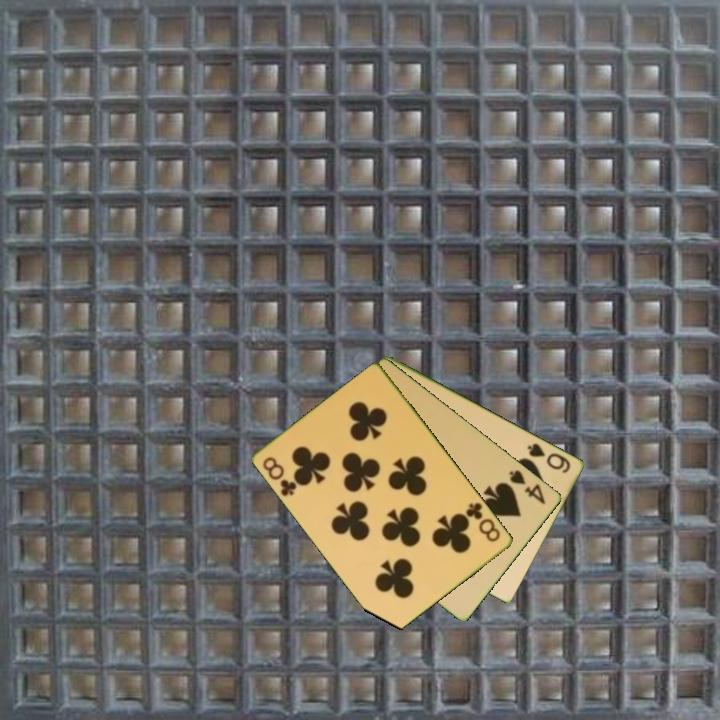4s: (506, 466, 549, 507)
6s: (524, 439, 574, 476)
8c: (462, 499, 503, 545), (260, 453, 300, 499)
